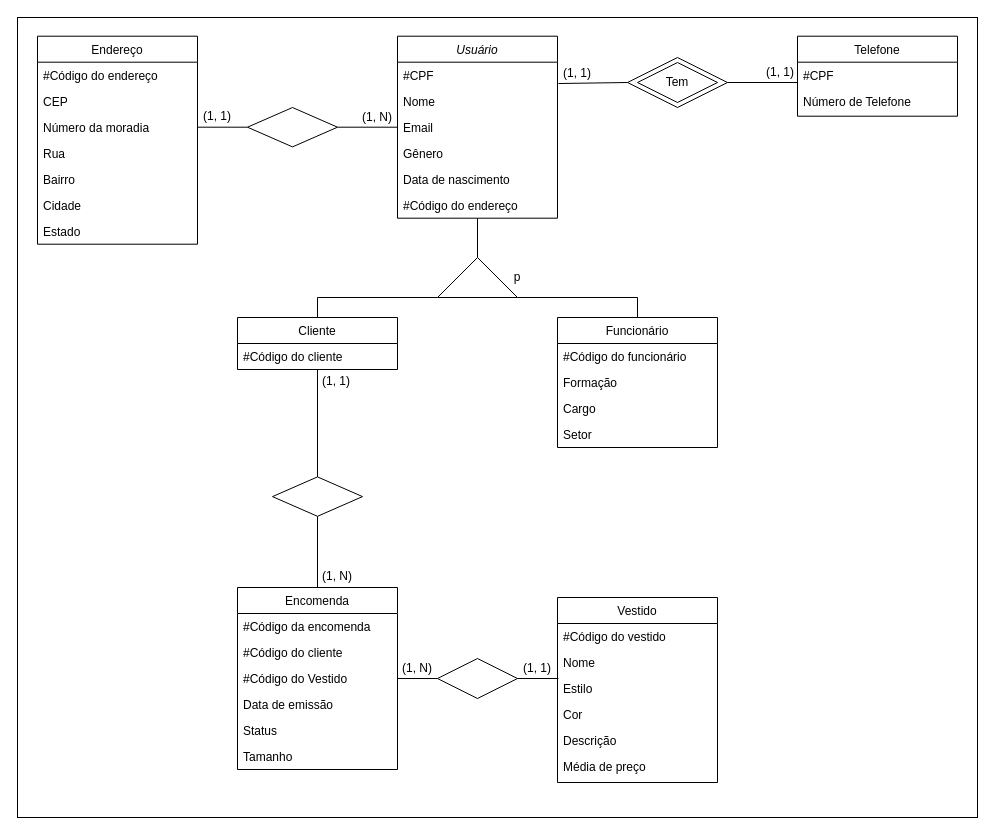
Image size: 995x835. Some labels were removed from this diagram. The centre of each missing label's shape, as x and y in pixels:
Gerencia: (x=317, y=496)
Habita em: (x=292, y=126)
Possui: (x=477, y=678)
